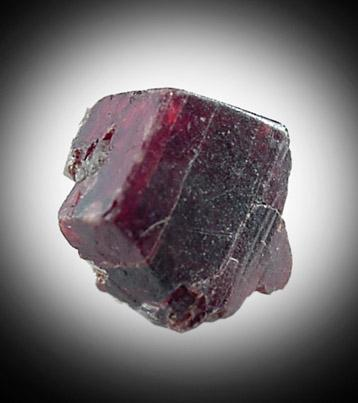tantalite: (59, 89, 293, 332)
